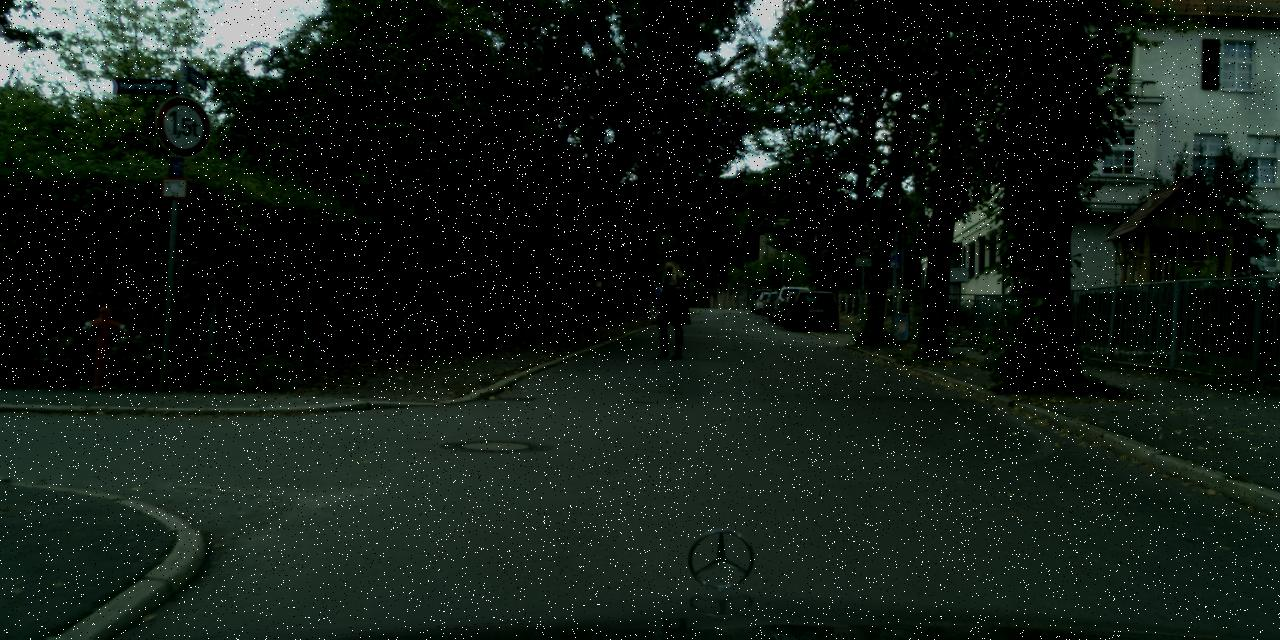ped: (651, 261, 690, 358)
